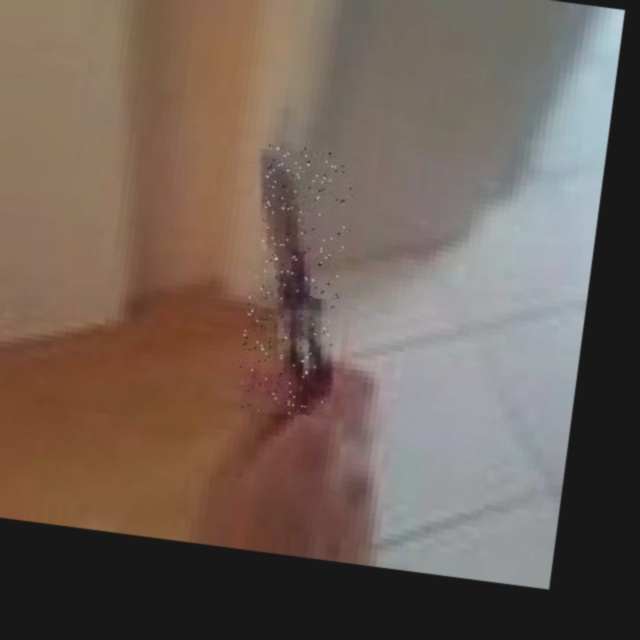Sharp-Object: (234, 143, 357, 420)
